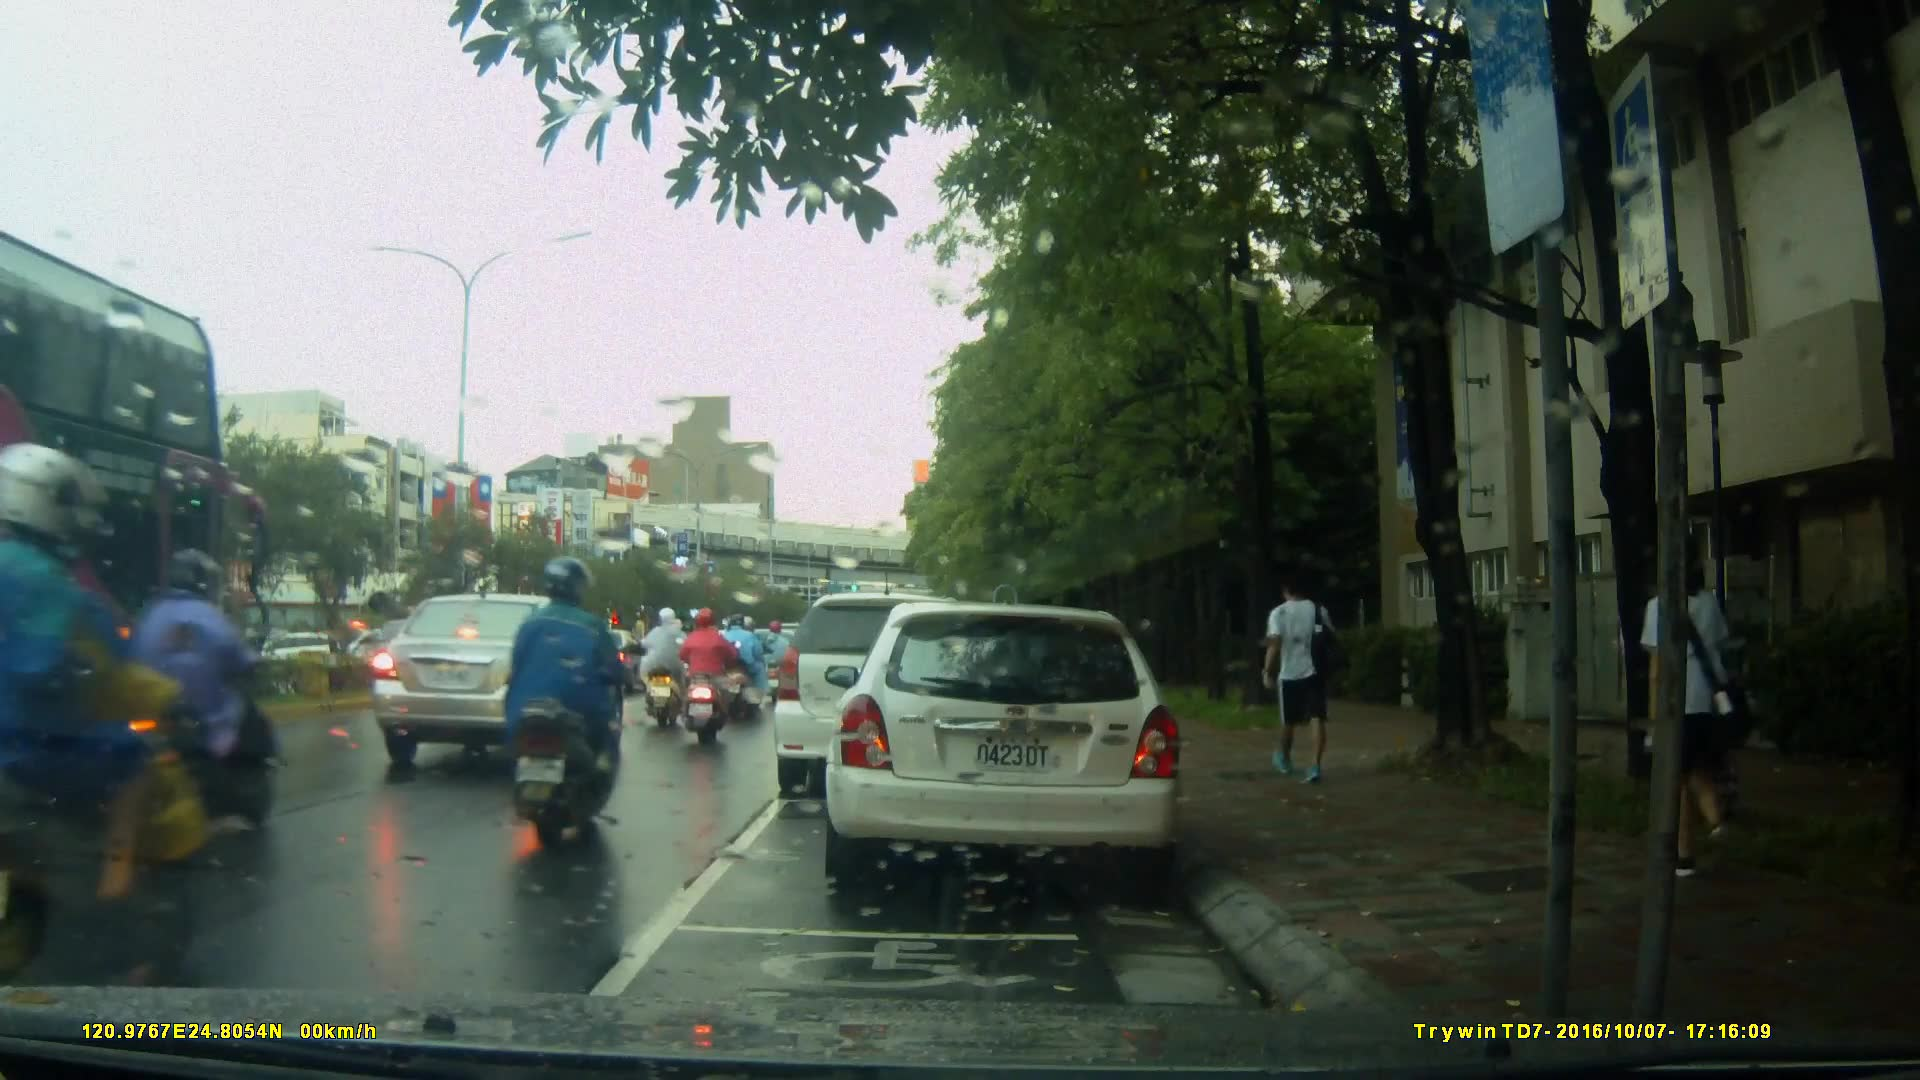pedestrian: (98, 553, 277, 844), (1622, 532, 1742, 890), (1260, 557, 1358, 802)
rider: (1, 444, 234, 1054), (500, 556, 627, 852), (674, 605, 739, 749), (636, 603, 691, 733), (718, 612, 766, 713), (758, 617, 794, 710)
vehicle: (10, 215, 257, 904), (822, 604, 1188, 882), (372, 590, 635, 770), (774, 595, 995, 802)
